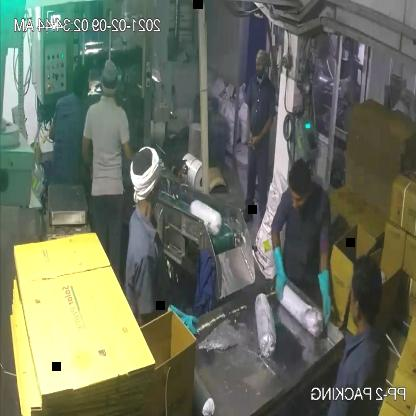glove: (263, 235, 294, 306), (314, 262, 344, 330)
no_glove: (249, 109, 278, 153)
